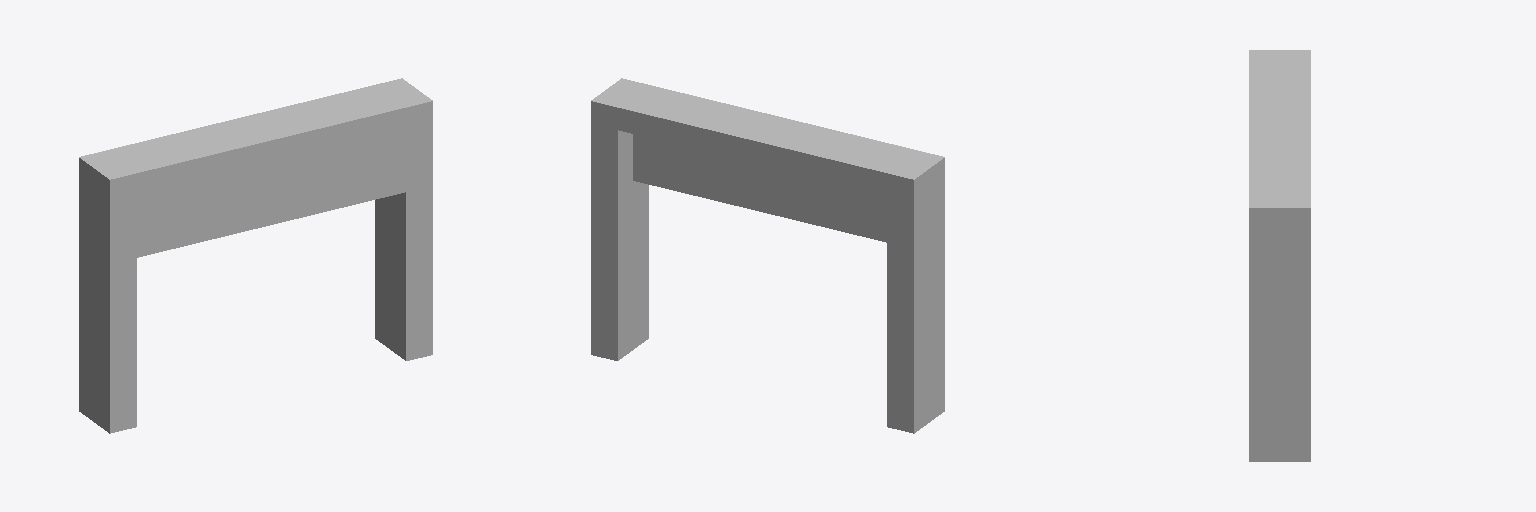
The model's file is gate.obj.
3 views of the same model, side by side, from view 1: azimuth 30°, elevation 25°; view 2: azimuth 150°, elevation 25°; view 3: azimuth 270°, elevation 25° (orthographic).
Size of the model in its own units: 60 by 45 by 10.